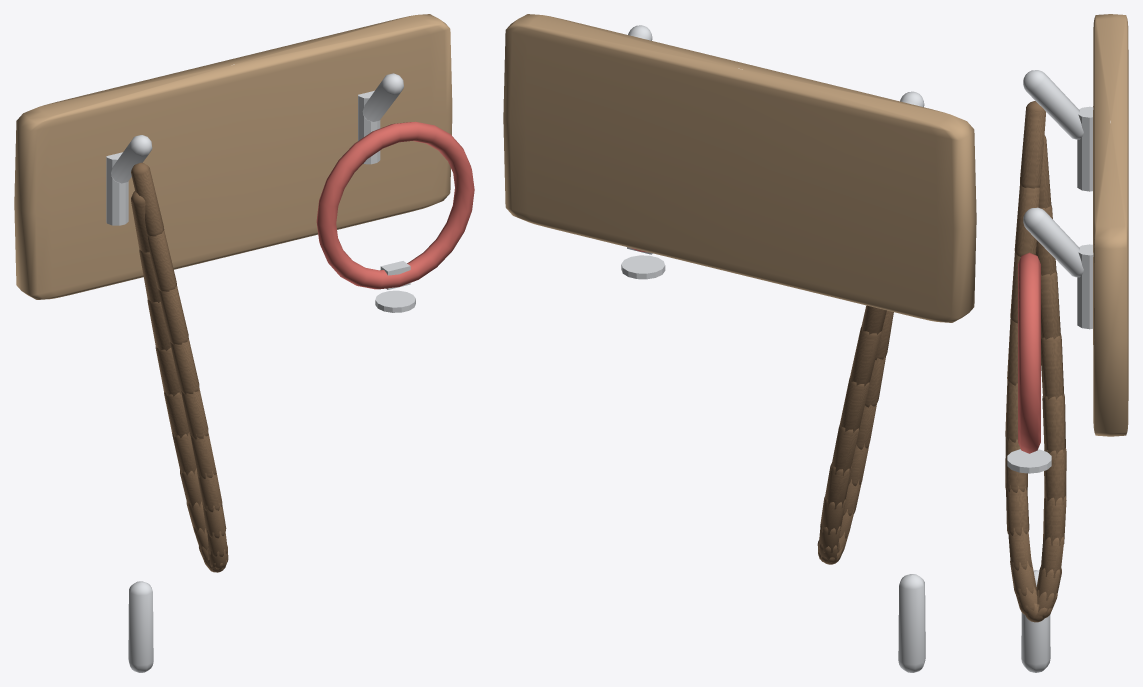
Rendered from pets-and-companions-hd-lead-and-collar-hook-6df363ba__28179.glb.
3 renders of one model, left to right at view 1: azimuth 30°, elevation 25°; view 2: azimuth 150°, elevation 25°; view 3: azimuth 270°, elevation 25°, orthographic. The views are drawn at different scales.
Parts seen in each view (by area): view 1: lead-and-collar-hook; view 2: lead-and-collar-hook; view 3: lead-and-collar-hook.
Part boxes in pixels (x1,y1,x2,y2): lead-and-collar-hook: (14,14,474,672); lead-and-collar-hook: (503,14,976,672); lead-and-collar-hook: (1005,14,1128,672).
Size of the model in its own units: 0.34 by 0.419 by 0.0759.
4 materials, 1 textured.
